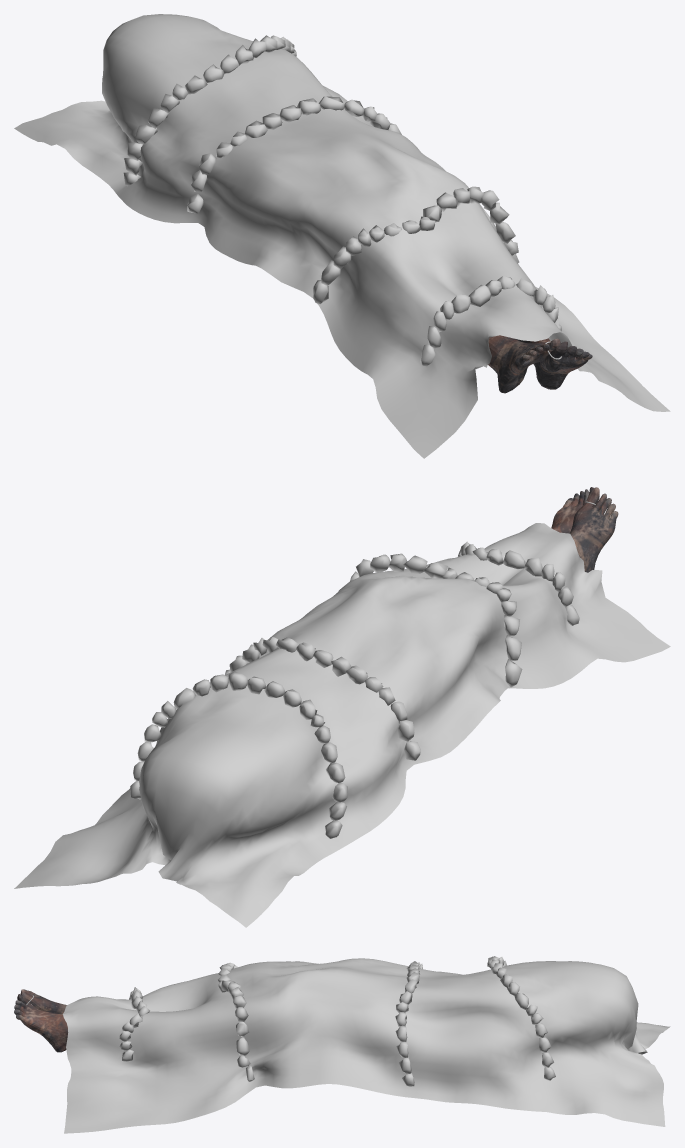
File: Madeleine Leiche.fbx
3 views of the same model, one above another, from view 1: azimuth 30°, elevation 25°; view 2: azimuth 150°, elevation 25°; view 3: azimuth 270°, elevation 25° (orthographic). The views are drawn at different scales.
Visible parts, largest first — view 1: Plane.001, Maddie_3_Ankunft_Cylinder_012; view 2: Plane.001, Maddie_3_Ankunft_Cylinder_012; view 3: Plane.001, Maddie_3_Ankunft_Cylinder_012.
Boxes of the visible parts, box(x1,y1,x2,y2) form: Plane.001: box(14, 14, 670, 458); Maddie_3_Ankunft_Cylinder_012: box(488, 335, 592, 393); Plane.001: box(14, 501, 670, 927); Maddie_3_Ankunft_Cylinder_012: box(551, 487, 618, 572); Plane.001: box(26, 956, 670, 1133); Maddie_3_Ankunft_Cylinder_012: box(14, 989, 68, 1052).
Bounding box in the file's own units: 90.73 × 60.38 × 284.
